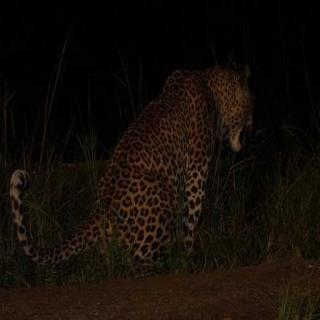Leopard: (0, 39, 268, 288)
